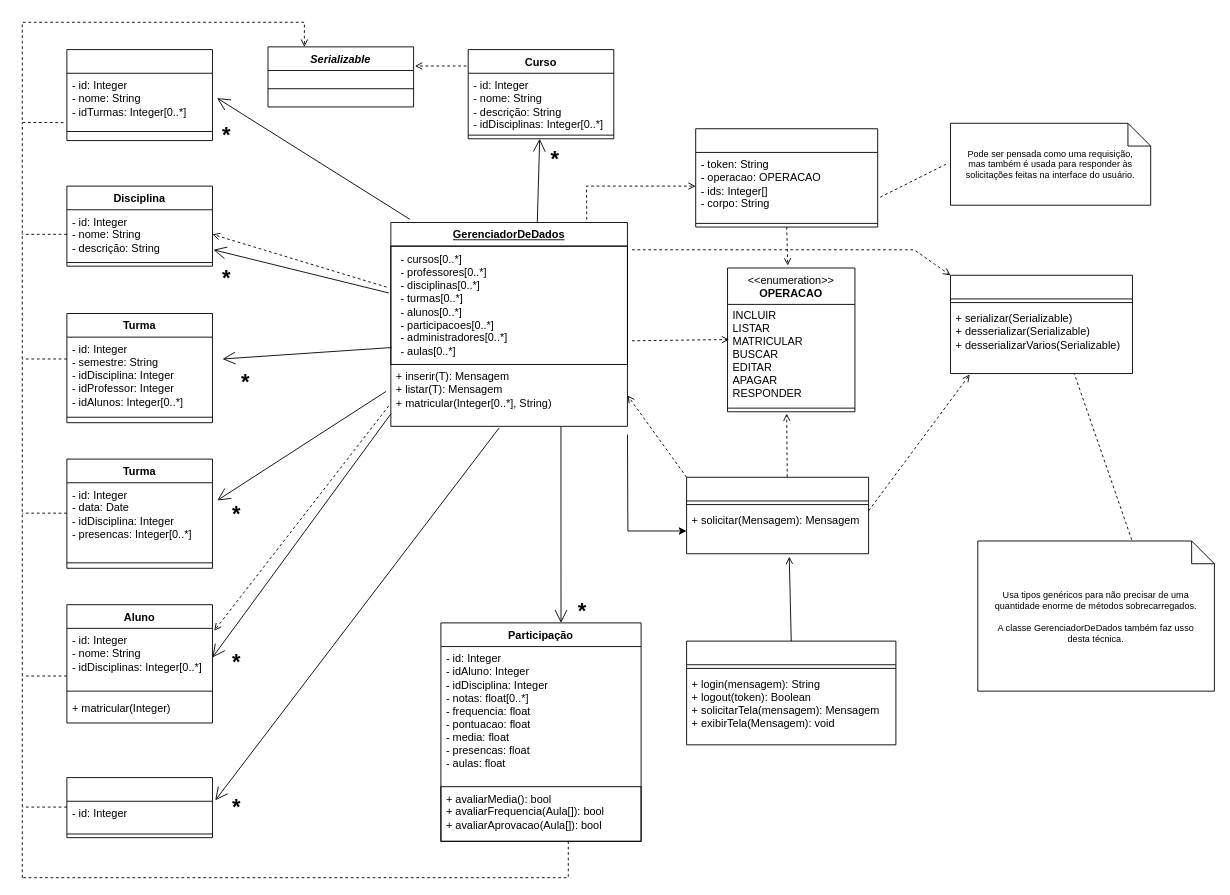
Image size: 1230x895. Some labels were removed from this diagram. Here are the shapes that lost their labels. From the top down, the box of each, then its label:
(66, 49, 212, 141): Professor
(695, 128, 878, 227): Mensagem
(950, 274, 1132, 374): Serializador
(686, 476, 869, 554): Controlador
(686, 640, 896, 745): InterfaceUsuario
(66, 777, 212, 838): Administrador
